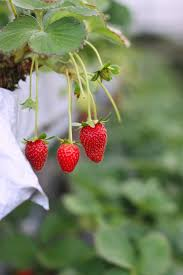ripe: (80, 117, 108, 166), (19, 137, 49, 175), (56, 141, 83, 175)
